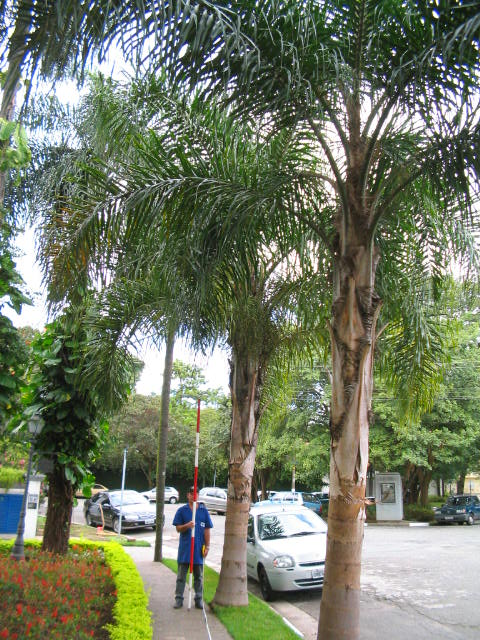stem: (297, 343, 391, 640), (212, 380, 272, 607)
stick: (184, 397, 204, 611)
tree: (72, 73, 330, 607)
